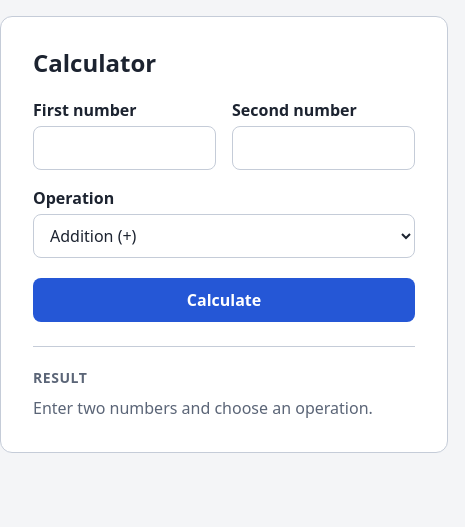
Scenario: Calculator › formats floating point artefacts in the displayed result only
Type "0.1" into the field labelled "First number" at (124, 148), box [33,126,216,170]
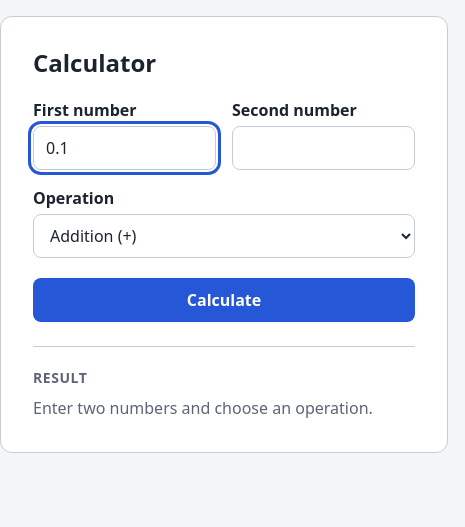
Type "0.2" into the field labelled "Second number" at (324, 148), box [232,126,415,170]
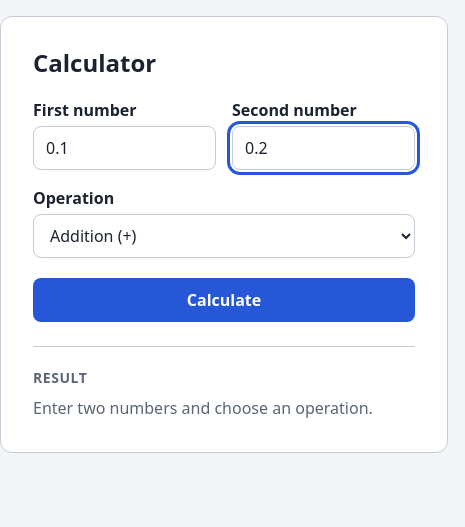
Click the button "Calculate" at (224, 300), box [33,278,415,322]
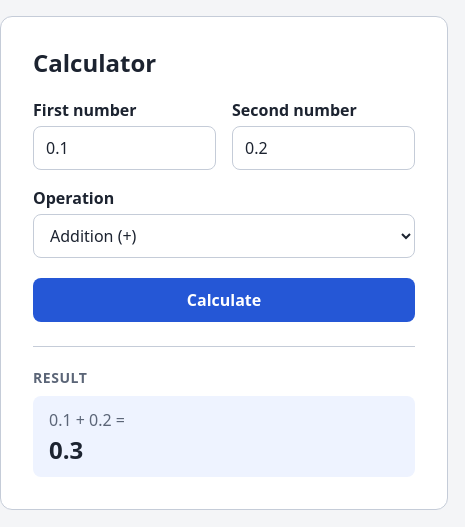
Expected: the message does not show "0.30000000000000004", [33,396,415,477]
Expected: the message reads "0.1 + 0.2 = 0.3", [33,396,415,477]
